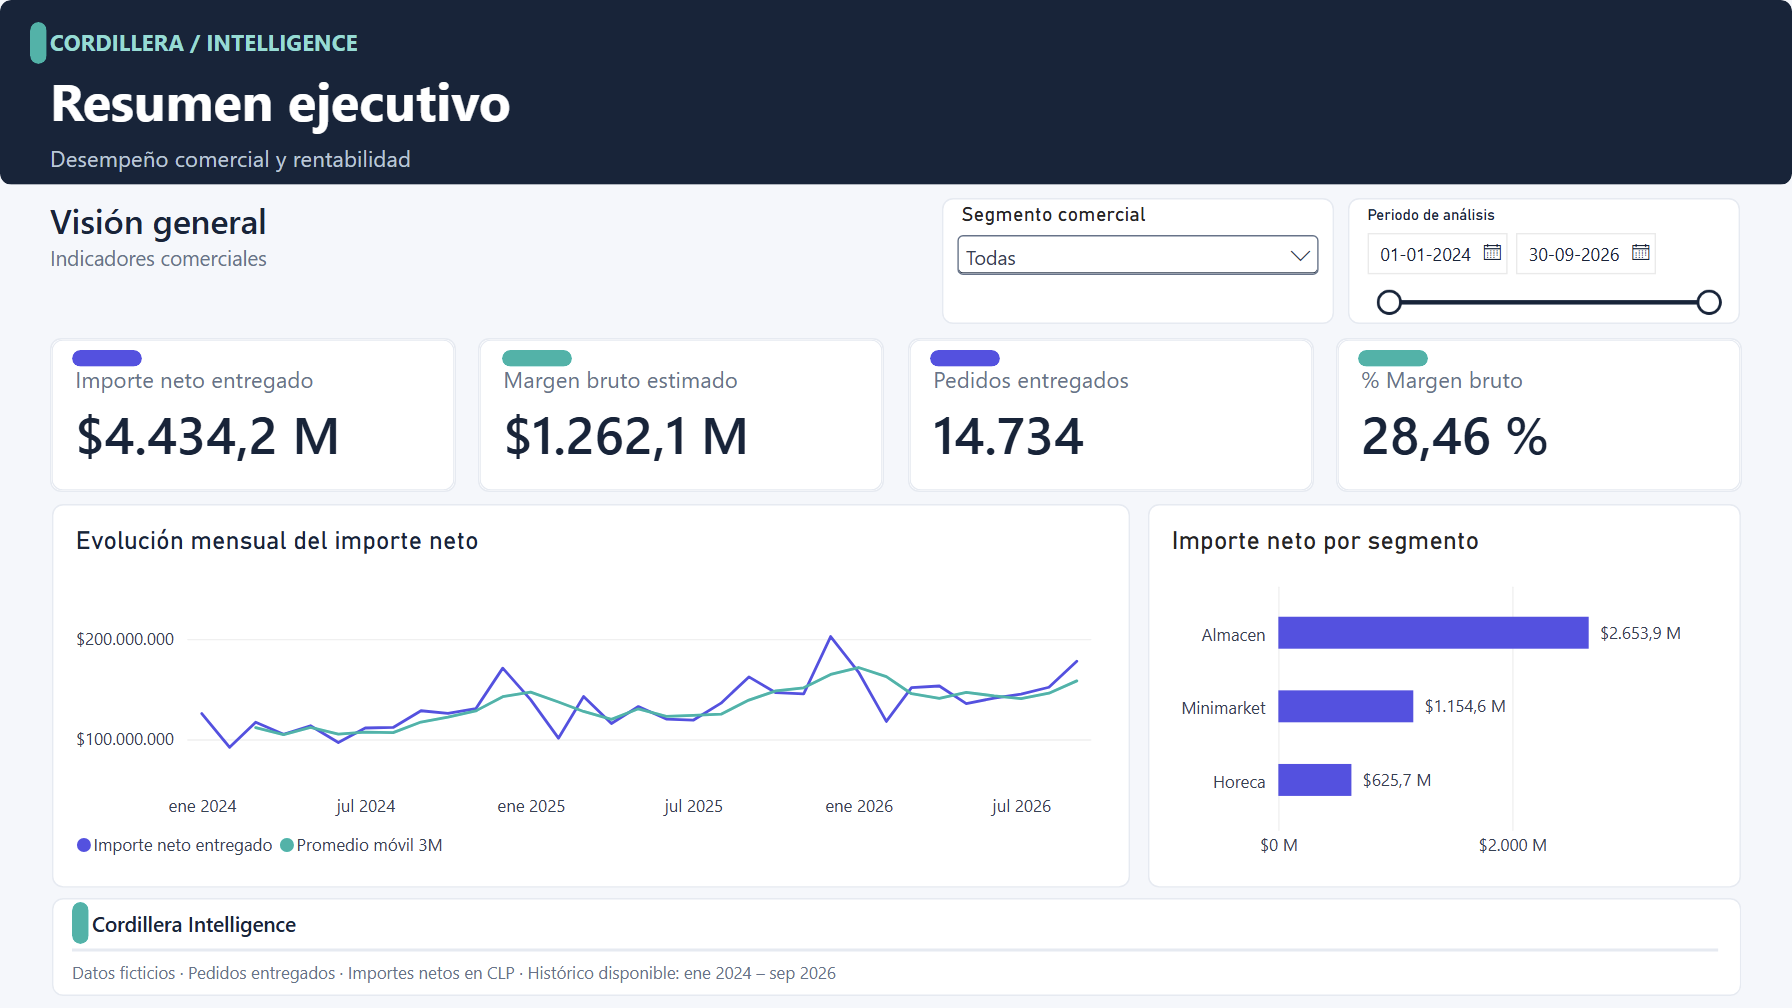

This screenshot's page, from the dashboard's own definition file:
{"tool":"powerbi","page":{"name":"01_Resumen ejecutivo","canvas":[1280,720],"ordinal":0},"visuals":[{"type":"shape","box":[0,0,1280,132],"z":0},{"type":"textbox","box":[36,18,600,28],"z":1000},{"type":"textbox","box":[36,46,720,50],"z":2000},{"type":"textbox","box":[36,101,700,26],"z":3000},{"type":"shape","box":[21,15,12,30],"z":4000},{"type":"slicer","fields":{"Values":["dim_cliente.segmento"]},"box":[673.3,141.7,280,90],"z":5000},{"type":"slicer","fields":{"Values":["dim_fecha.fecha"]},"box":[963.3,141.7,280,90],"z":6000},{"type":"textbox","box":[36,142,350,54],"z":7000},{"type":"textbox","box":[36,174,350,30],"z":8000},{"type":"cardVisual","fields":{"Data":["fact_detalle_pedidos.Importe neto entregado"]},"box":[36,242,290,110],"z":9000},{"type":"cardVisual","fields":{"Data":["fact_detalle_pedidos.Margen bruto estimado"]},"box":[342,242,290,110],"z":10000},{"type":"cardVisual","fields":{"Data":["fact_detalle_pedidos.Pedidos entregados","select"]},"box":[648,242,290,110],"z":11000},{"type":"cardVisual","fields":{"Data":["fact_detalle_pedidos.% Margen bruto"]},"box":[954,242,290,110],"z":12000},{"type":"shape","box":[52,250,50,12],"z":13000},{"type":"shape","box":[358,250,50,12],"z":14000},{"type":"shape","box":[664,250,50,12],"z":15000},{"type":"shape","box":[970,250,50,12],"z":16000},{"type":"lineChart","title":"Evolución mensual del importe neto","fields":{"Category":["dim_fecha.mes_inicio"],"Y":["fact_detalle_pedidos.Importe neto entregado","fact_detalle_pedidos.Promedio móvil 3M"]},"box":[36.7,360,770,274],"z":17000},{"type":"clusteredBarChart","title":"Importe neto por segmento","fields":{"Category":["dim_cliente.segmento"],"Y":["fact_detalle_pedidos.Importe neto entregado"]},"box":[820,360,423.3,274],"z":18000},{"type":"shape","box":[36.7,642,1206.7,70],"z":19000},{"type":"textbox","box":[66,650,500,25],"z":20000},{"type":"shape","box":[52,668,1176,20],"z":21000},{"type":"textbox","box":[52,684,1176,20],"z":22000},{"type":"shape","box":[51.7,645,12,30],"z":23000}]}

Visuals, with their boxes in screenshot pixels (x1, y1, x2, y2), scaled from the page's 1280x720 canvas onto the 1792x1008 screenshot:
shape: 0,0,1791,185
textbox: 50,25,890,64
textbox: 50,64,1058,134
textbox: 50,141,1030,178
shape: 29,21,46,63
slicer - dim_cliente.segmento: 943,198,1335,324
slicer - dim_fecha.fecha: 1349,198,1741,324
textbox: 50,199,540,274
textbox: 50,244,540,286
cardVisual - fact_detalle_pedidos.Importe neto entregado: 50,339,456,493
cardVisual - fact_detalle_pedidos.Margen bruto estimado: 479,339,885,493
cardVisual - fact_detalle_pedidos.Pedidos entregados x select: 907,339,1313,493
cardVisual - fact_detalle_pedidos.% Margen bruto: 1336,339,1742,493
shape: 73,350,143,367
shape: 501,350,571,367
shape: 930,350,1000,367
shape: 1358,350,1428,367
"Evolución mensual del importe neto" lineChart: 51,504,1129,888
"Importe neto por segmento" clusteredBarChart: 1148,504,1741,888
shape: 51,899,1741,997
textbox: 92,910,792,945
shape: 73,935,1719,963
textbox: 73,958,1719,986
shape: 72,903,89,945
